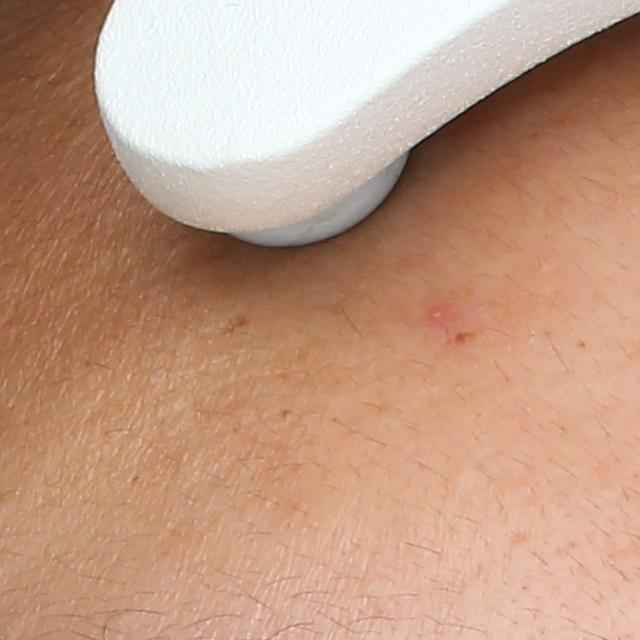papule: (426, 308, 451, 328)
